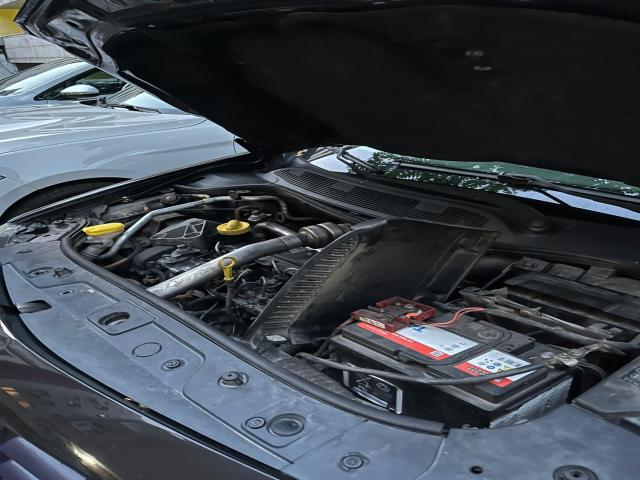accumulator: (300, 297, 612, 428)
antifreeze_tank: (102, 192, 183, 221)
fuse_box: (572, 357, 640, 425)
high_pressure_pump: (157, 253, 207, 275)
